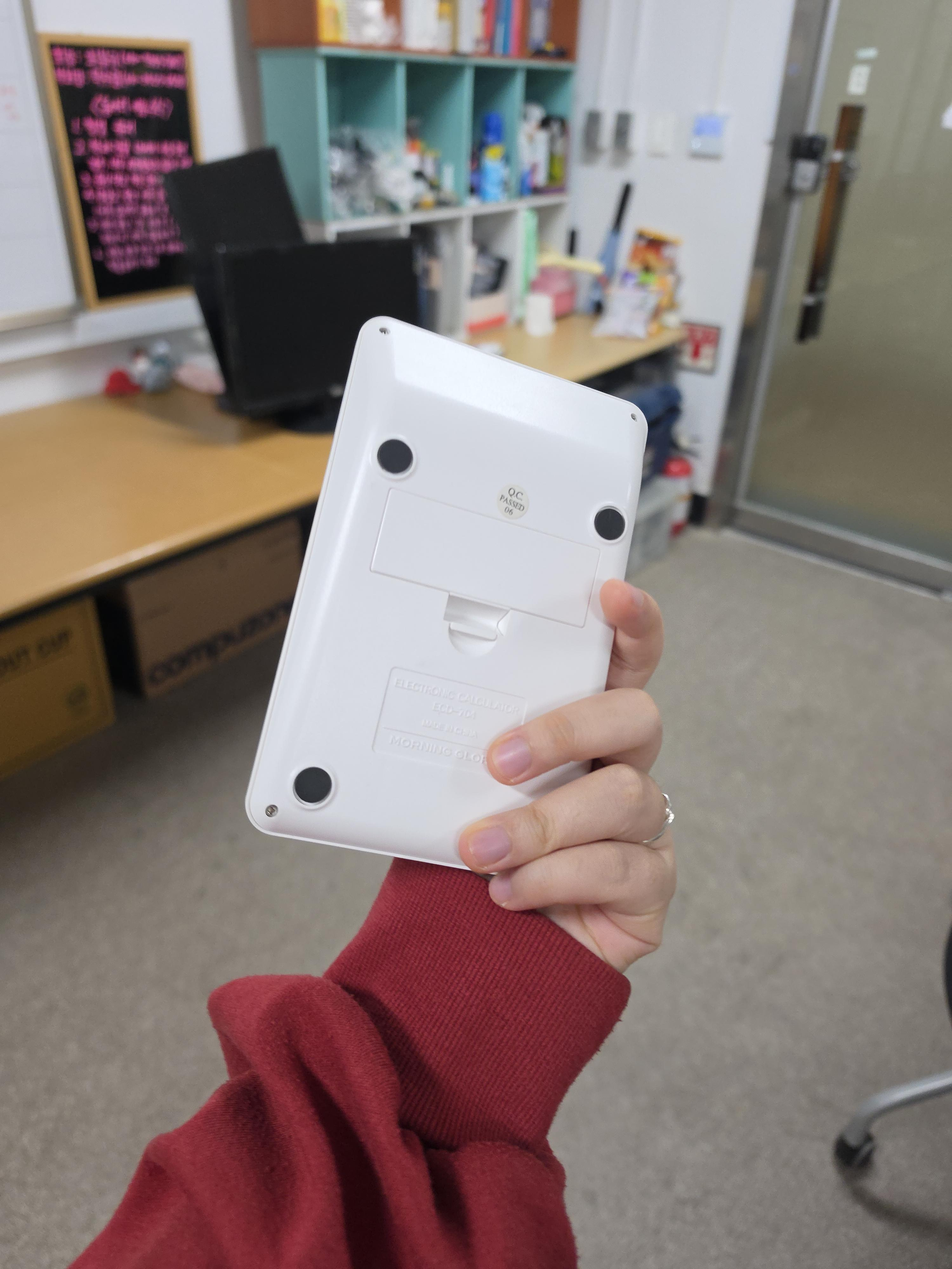calculator: (245, 316, 649, 876)
